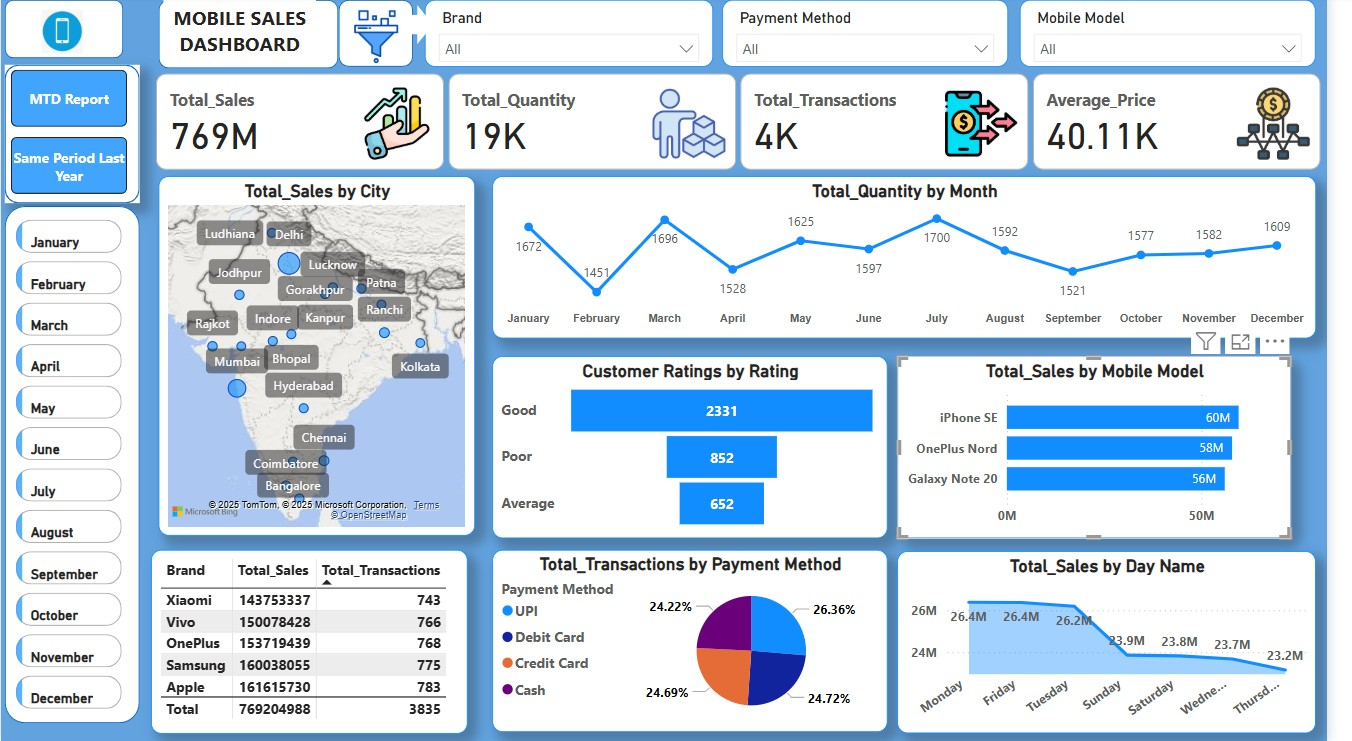

What the dashboard file says about the page in this screenshot:
{"tool":"powerbi","page":{"name":"Dashboard","canvas":[1280,720],"ordinal":0},"visuals":[{"type":"shape","box":[3.6,3.6,114.6,56.7],"z":0},{"type":"shape","box":[3.6,66.4,130.3,133.9],"z":1000},{"type":"shape","box":[3.6,202.7,130.3,499.5],"z":2000},{"type":"advancedSlicerVisual","fields":{"Values":["Custom_Calender.Date.Variation.Date Hierarchy.Month"]},"box":[9.7,211.1,112.2,482.6],"z":3000},{"type":"cardVisual","fields":{"Data":["Scales _Data.Total_Sales","Scales _Data.Total_Quantity","Scales _Data.Total_Transactions","Scales _Data.Average_Price"]},"box":[144.8,70,1135.3,103.8],"z":4000},{"type":"image","box":[0,8.4,118.2,51.9],"z":5000},{"type":"slicer","fields":{"Values":["Sales _Data.Brand"]},"box":[409,3.6,278.7,65.1],"z":6000},{"type":"slicer","fields":{"Values":["Sales _Data.Payment Method"]},"box":[696.1,3.6,276.3,65.1],"z":7000},{"type":"slicer","fields":{"Values":["Custom_Calender.Date.Variation.Date Hierarchy.Year","Custom_Calender.Date.Variation.Date Hierarchy.Quarter","Custom_Calender.Date.Variation.Date Hierarchy.Month","Custom_Calender.Date.Variation.Date Hierarchy.Day"]},"box":[983.2,3.6,285.9,65.1],"z":8000},{"type":"shape","box":[325.7,3.6,72.4,65.1],"z":9000},{"type":"image","box":[325.7,8.4,72.4,61.5],"z":10000},{"type":"shape","box":[386.1,8.4,31.4,38.6],"z":11000},{"type":"shape","box":[152,3.6,173.7,66.4],"z":12000},{"type":"textbox","box":[156.8,3.6,147.2,62.7],"z":13000},{"type":"map","fields":{"Category":["Sales _Data.City"],"Size":["Sales _Data.Total_Sales"]},"box":[152,173.7,305.2,347.5],"z":14000},{"type":"lineChart","fields":{"Category":["Custom_Calender.Date.Variation.Date Hierarchy.Month"],"Y":["Sales _Data.Total_Quantity"]},"box":[474.1,173.7,795,156.8],"z":15000},{"type":"funnel","title":"Customer Ratings by Rating","fields":{"Y":["CountNonNull(Sales _Data.Customer Ratings)"],"Category":["Sales _Data.Rating"]},"box":[474.1,347.5,381.2,176.1],"z":16000},{"type":"pieChart","fields":{"Y":["Sales _Data.Total_Transactions"],"Category":["Sales _Data.Payment Method"]},"box":[474.1,534.5,381.2,176.1],"z":17000},{"type":"barChart","fields":{"Y":["Sales _Data.Total_Sales"],"Category":["Sales _Data.Mobile Model"]},"box":[865,347.5,380,176.1],"z":18000},{"type":"areaChart","fields":{"Y":["Sales _Data.Total_Sales"],"Category":["Sales _Data.Day Name"]},"box":[865,535.7,404.2,176.1],"z":19000},{"type":"tableEx","fields":{"Values":["Sales _Data.Brand","Sales _Data.Total_Sales","Sales _Data.Total_Transactions"]},"box":[144.8,534.5,305.2,177.3],"z":20000},{"type":"pageNavigator","box":[9.7,71.2,112.2,120.6],"z":21000}]}

Visuals, with their boxes in screenshot pixels (x1, y1, x2, y2), scaled from the page's 1280x720 canvas onto the 1352x741 screenshot:
shape: pyautogui.locateOnScreen(4, 4, 125, 62)
shape: pyautogui.locateOnScreen(4, 68, 141, 206)
shape: pyautogui.locateOnScreen(4, 209, 141, 723)
advancedSlicerVisual - Custom_Calender.Date.Variation.Date Hierarchy.Month: pyautogui.locateOnScreen(10, 217, 129, 714)
cardVisual - Scales _Data.Total_Sales x Scales _Data.Total_Quantity: pyautogui.locateOnScreen(153, 72, 1351, 179)
image: pyautogui.locateOnScreen(0, 9, 125, 62)
slicer - Sales _Data.Brand: pyautogui.locateOnScreen(432, 4, 726, 71)
slicer - Sales _Data.Payment Method: pyautogui.locateOnScreen(735, 4, 1027, 71)
slicer - Custom_Calender.Date.Variation.Date Hierarchy.Year x Custom_Calender.Date.Variation.Date Hierarchy.Quarter: pyautogui.locateOnScreen(1039, 4, 1340, 71)
shape: pyautogui.locateOnScreen(344, 4, 420, 71)
image: pyautogui.locateOnScreen(344, 9, 420, 72)
shape: pyautogui.locateOnScreen(408, 9, 441, 48)
shape: pyautogui.locateOnScreen(161, 4, 344, 72)
textbox: pyautogui.locateOnScreen(166, 4, 321, 68)
map - Sales _Data.City x Sales _Data.Total_Sales: pyautogui.locateOnScreen(161, 179, 483, 536)
lineChart - Custom_Calender.Date.Variation.Date Hierarchy.Month x Sales _Data.Total_Quantity: pyautogui.locateOnScreen(501, 179, 1340, 340)
"Customer Ratings by Rating" funnel: pyautogui.locateOnScreen(501, 358, 903, 539)
pieChart - Sales _Data.Total_Transactions x Sales _Data.Payment Method: pyautogui.locateOnScreen(501, 550, 903, 731)
barChart - Sales _Data.Total_Sales x Sales _Data.Mobile Model: pyautogui.locateOnScreen(914, 358, 1315, 539)
areaChart - Sales _Data.Total_Sales x Sales _Data.Day Name: pyautogui.locateOnScreen(914, 551, 1341, 733)
tableEx - Sales _Data.Brand x Sales _Data.Total_Sales: pyautogui.locateOnScreen(153, 550, 475, 733)
pageNavigator: pyautogui.locateOnScreen(10, 73, 129, 197)
